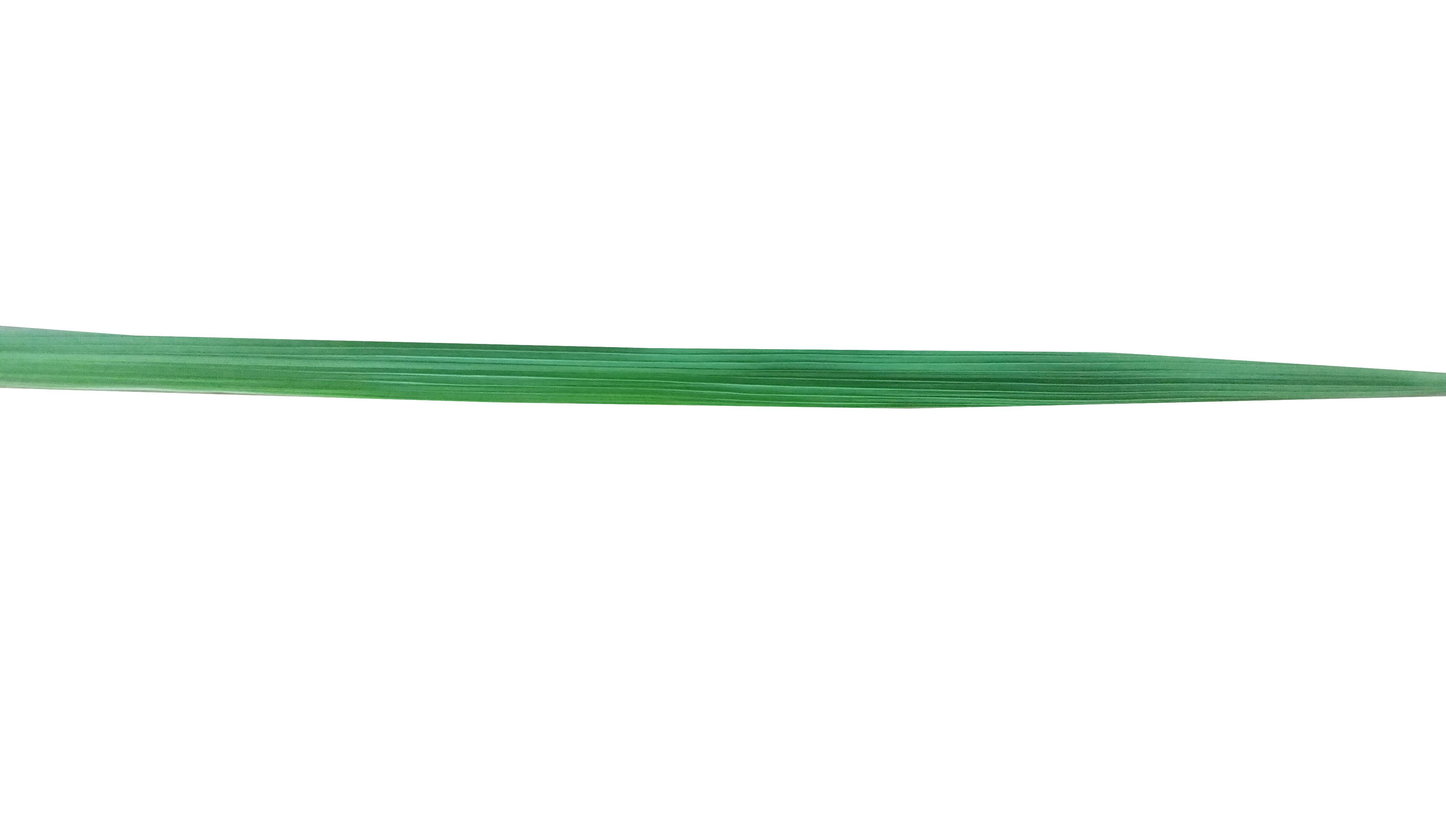Healthy: (0, 326, 1446, 412)
